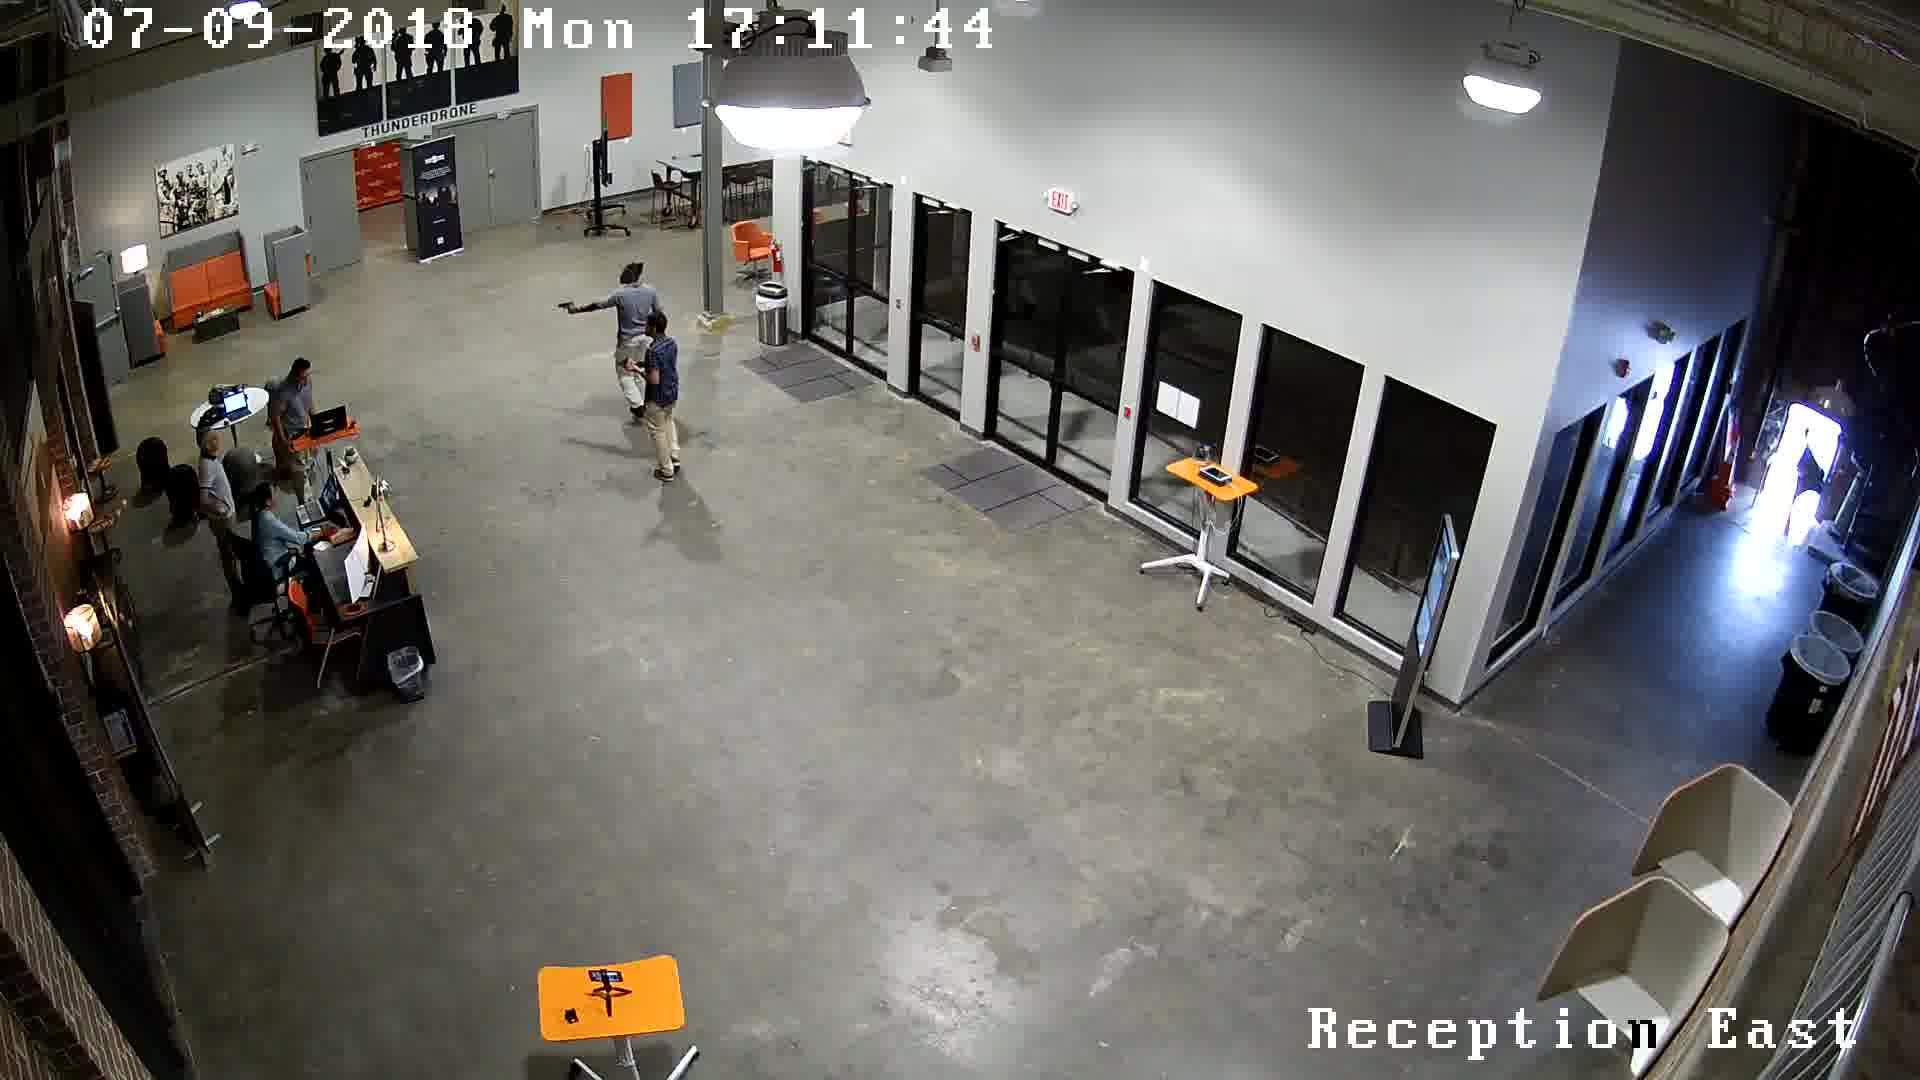pistol: (607, 345, 636, 382), (550, 298, 584, 324)
